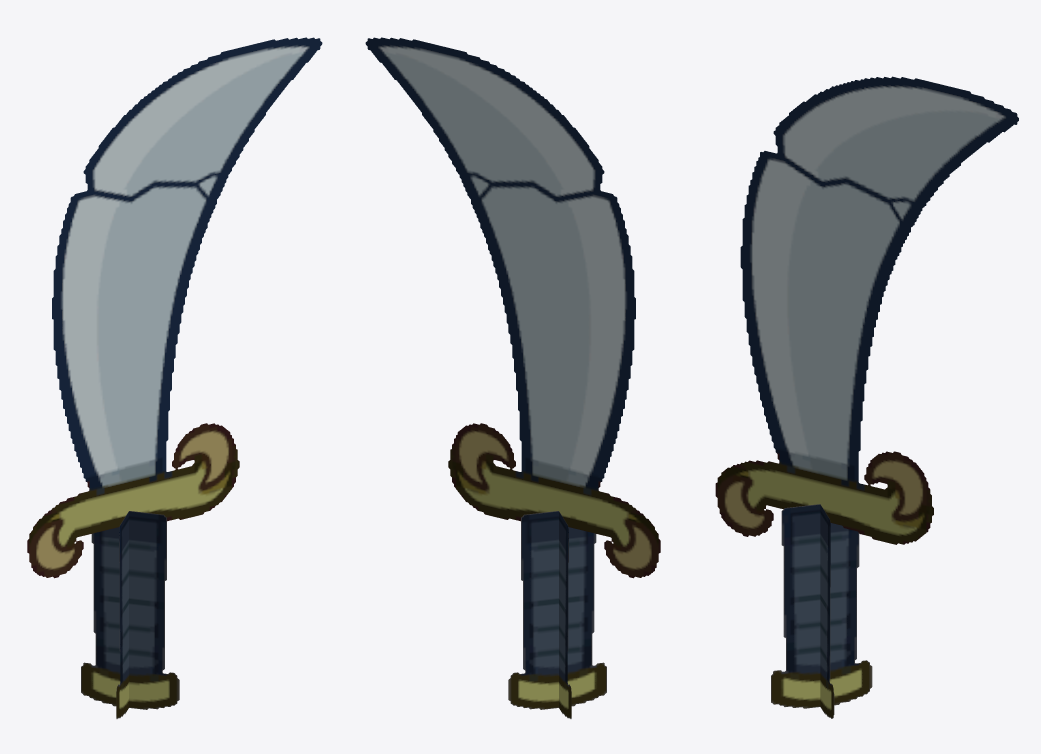
Rendered from c_buki1.tri.dae.
3 renders of one model, left to right at view 1: azimuth 30°, elevation 25°; view 2: azimuth 150°, elevation 25°; view 3: azimuth 330°, elevation 25°, orthographic. The views are drawn at different scales.
Parts seen in each view (by area): view 1: dai1_base_pPlane62, dai1_base_pPlane60, dai1_base_pPlane76, dai1_base_pPlane75, dai1_base_pPlane78, dai1_base_pPlane77; view 2: dai1_base_pPlane62, dai1_base_pPlane60, dai1_base_pPlane78, dai1_base_pPlane77, dai1_base_pPlane76, dai1_base_pPlane75; view 3: dai1_base_pPlane62, dai1_base_pPlane60, dai1_base_pPlane78, dai1_base_pPlane77, dai1_base_pPlane76.
Part boxes in pixels (x1,y1,x2,y2): dai1_base_pPlane62: (27,37,322,577); dai1_base_pPlane60: (27,38,321,577); dai1_base_pPlane76: (81,511,179,709); dai1_base_pPlane75: (81,512,179,709); dai1_base_pPlane78: (116,511,128,718); dai1_base_pPlane77: (116,512,128,717); dai1_base_pPlane62: (365,37,660,578); dai1_base_pPlane60: (366,38,660,577); dai1_base_pPlane78: (508,511,606,709); dai1_base_pPlane77: (511,511,606,709); dai1_base_pPlane76: (559,511,571,718); dai1_base_pPlane75: (559,514,571,718); dai1_base_pPlane62: (715,76,1018,544); dai1_base_pPlane60: (724,77,985,542); dai1_base_pPlane78: (771,504,872,708); dai1_base_pPlane77: (771,504,872,708); dai1_base_pPlane76: (820,504,834,718).
Bounding box in the file's own units: 29.12 × 57.55 × 6.86.
1 material, 1 textured.
